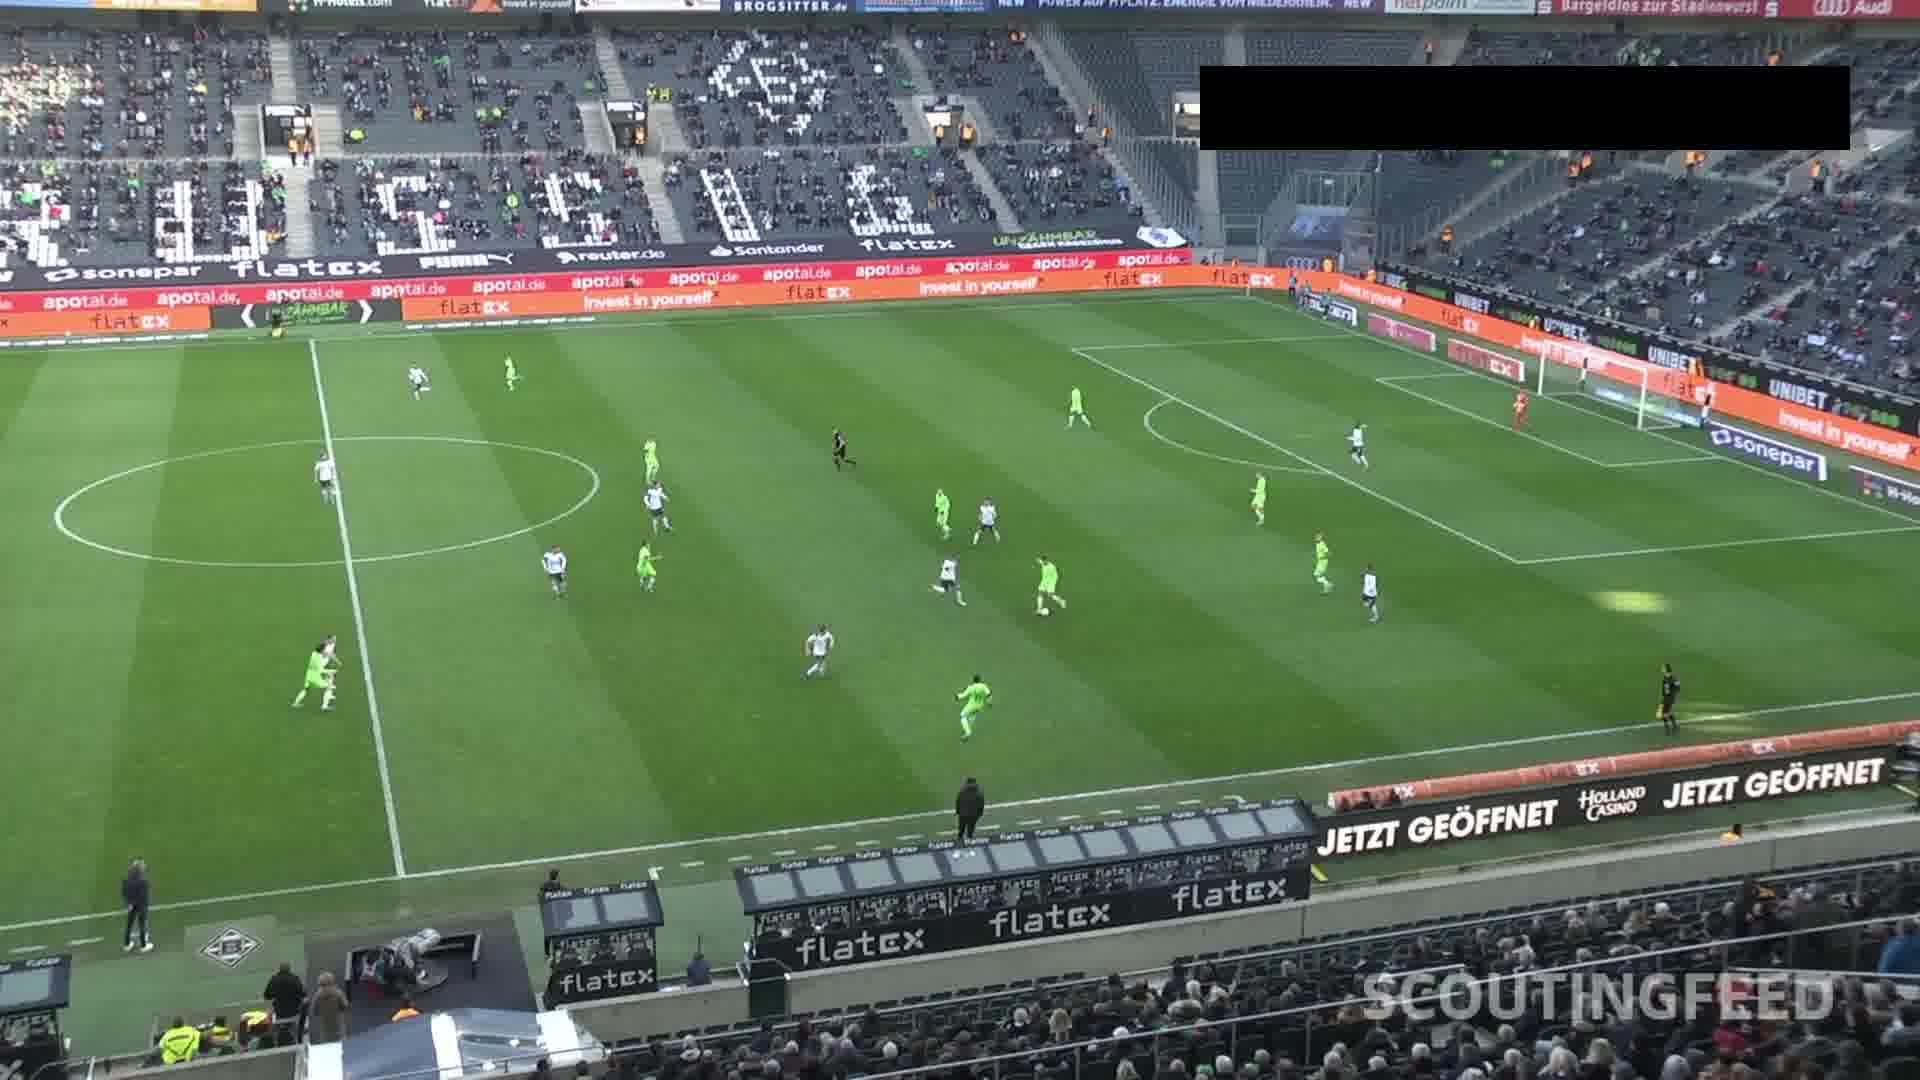football: (1040, 608, 1051, 616)
